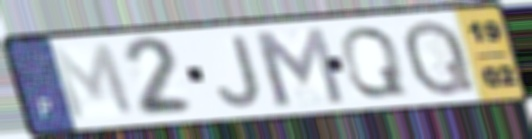2: (119, 35, 198, 122)
J: (214, 33, 265, 110)
M: (248, 24, 349, 109), (47, 41, 140, 124)
Q: (400, 16, 479, 99), (337, 25, 411, 100)
